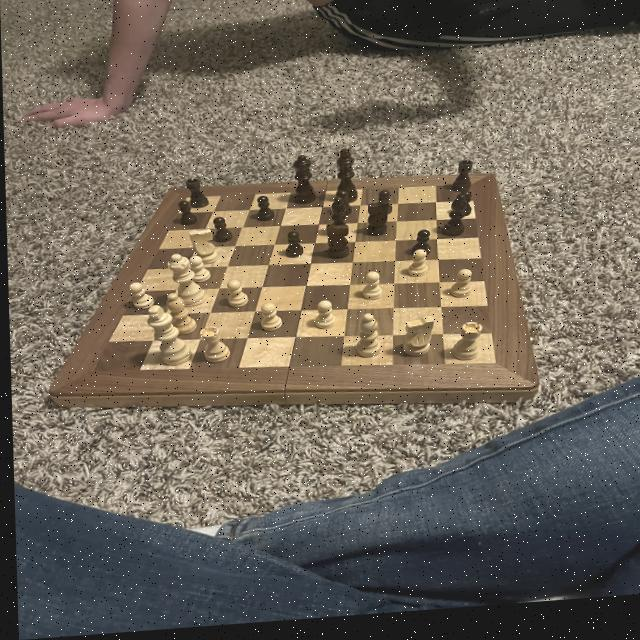bishop: (435, 199, 469, 247), (323, 200, 350, 243)
black-bishop: (327, 152, 360, 209)
black-king: (320, 227, 349, 267)
black-knight: (359, 206, 392, 244), (208, 219, 233, 248), (173, 202, 198, 231), (252, 197, 274, 229), (451, 197, 473, 227), (409, 234, 431, 264), (330, 194, 352, 224), (282, 233, 303, 264), (373, 194, 394, 221)
black-pawn: (289, 158, 319, 213)
black-queen: (447, 165, 474, 202), (182, 179, 210, 214)
black-rook: (158, 293, 197, 340), (348, 316, 381, 366)
white-bishop: (141, 304, 192, 371)
white-king: (396, 320, 435, 365), (185, 230, 219, 268)
white-knight: (124, 282, 155, 315), (253, 304, 283, 337), (446, 274, 472, 307), (358, 274, 382, 309), (222, 281, 249, 312), (184, 256, 211, 287), (310, 303, 334, 337), (403, 254, 427, 284)
white-pawn: (162, 254, 206, 313)
white-queen: (194, 326, 234, 370), (446, 326, 482, 370)
